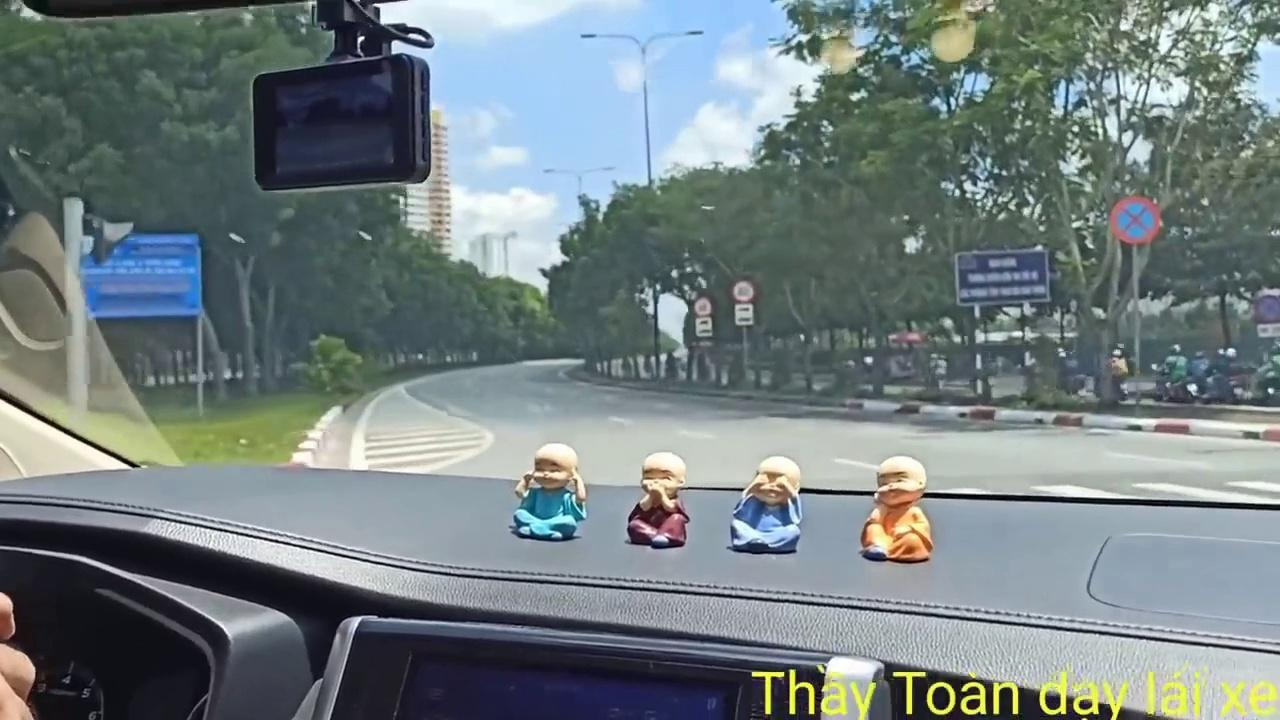Biển phụ: (735, 304, 754, 326), (696, 318, 712, 338)
Cấm dừng - Cấm đỗ: (1109, 192, 1158, 244)
Khác: (74, 228, 203, 320)
